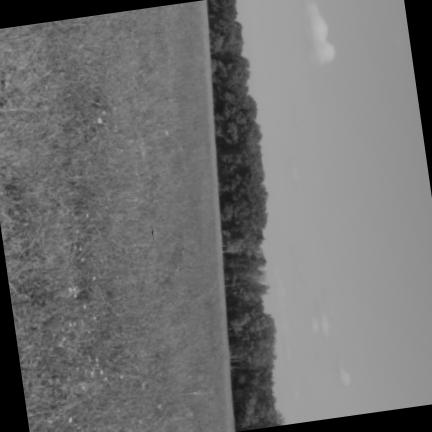Shahed: (150, 226, 154, 239)
